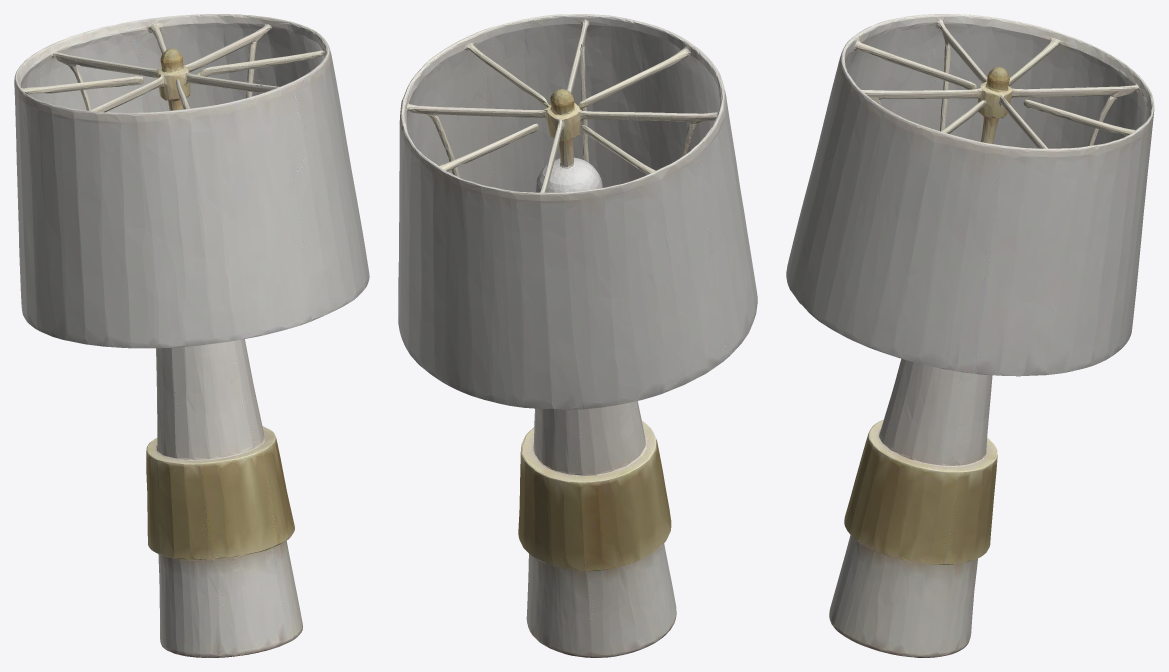
Rendered from white_and_gold_table_lamp_on_nightstand_000.glb.
3 views of the same model, side by side, from view 1: azimuth 30°, elevation 25°; view 2: azimuth 150°, elevation 25°; view 3: azimuth 270°, elevation 25° (orthographic). The views are drawn at different scales.
Parts seen in each view (by area): view 1: white_and_gold_table_lamp_on_nightstand_000.obj; view 2: white_and_gold_table_lamp_on_nightstand_000.obj; view 3: white_and_gold_table_lamp_on_nightstand_000.obj.
Boxes of the visible parts, x1,y1,x2,y2 form: white_and_gold_table_lamp_on_nightstand_000.obj: (14,14,369,657); white_and_gold_table_lamp_on_nightstand_000.obj: (398,14,757,657); white_and_gold_table_lamp_on_nightstand_000.obj: (786,14,1154,657).
Bounding box in the file's own units: 0.252 × 0.4546 × 0.2644.
Materials: 1 (1 with a texture image).
